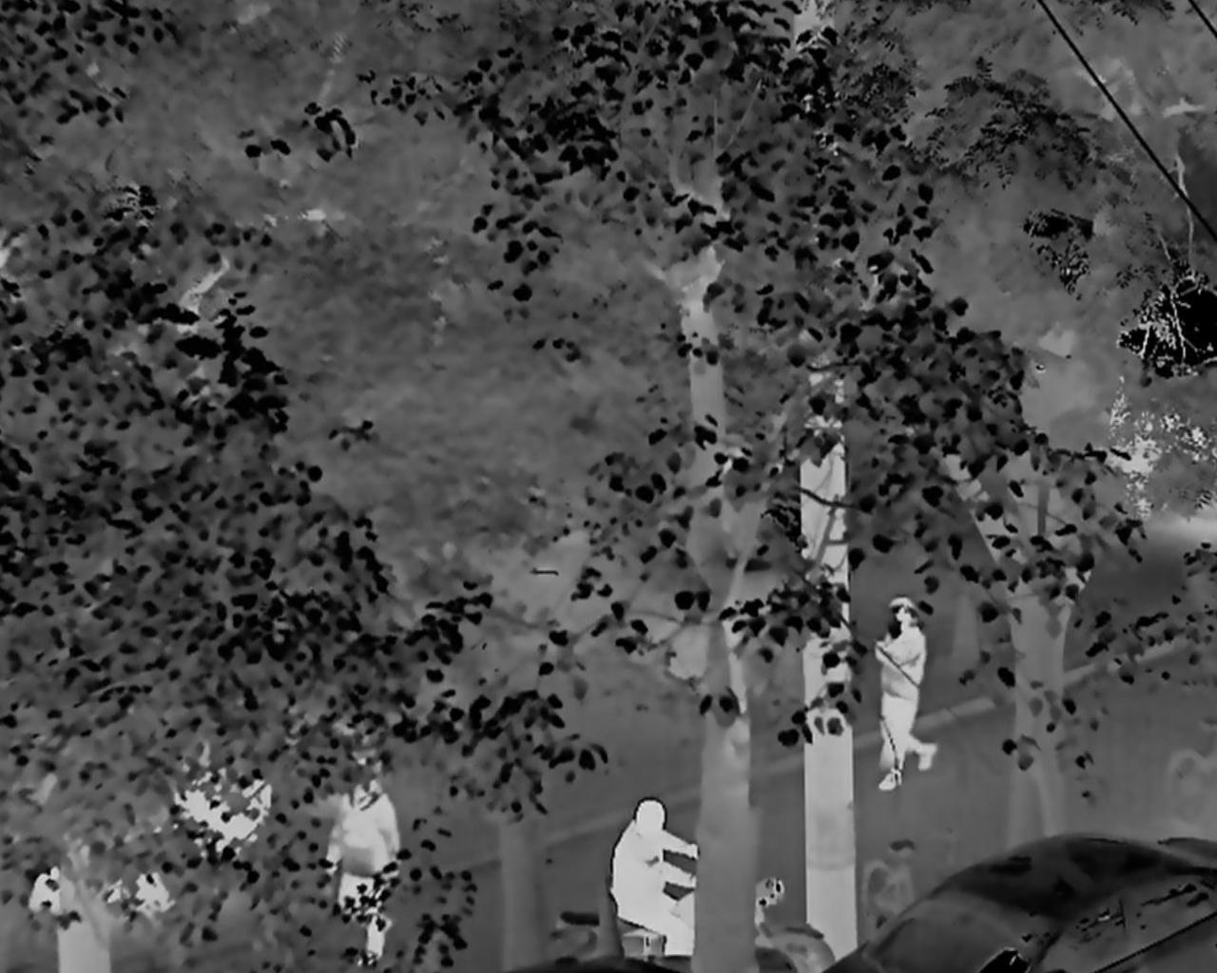person: (604, 794, 705, 973), (333, 746, 406, 973), (874, 599, 944, 796)
